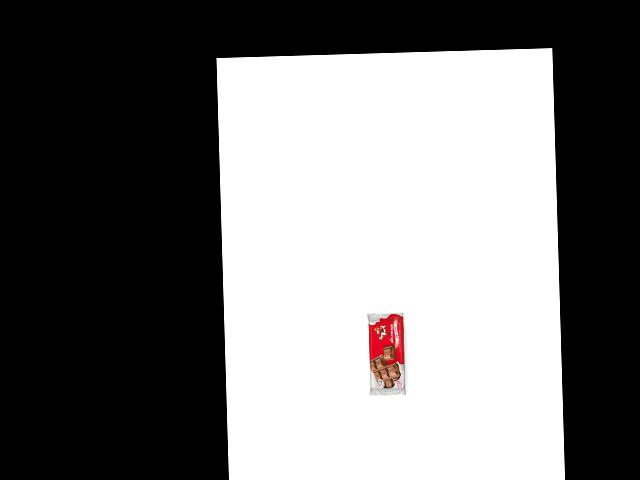chocolate: (366, 311, 406, 398)
